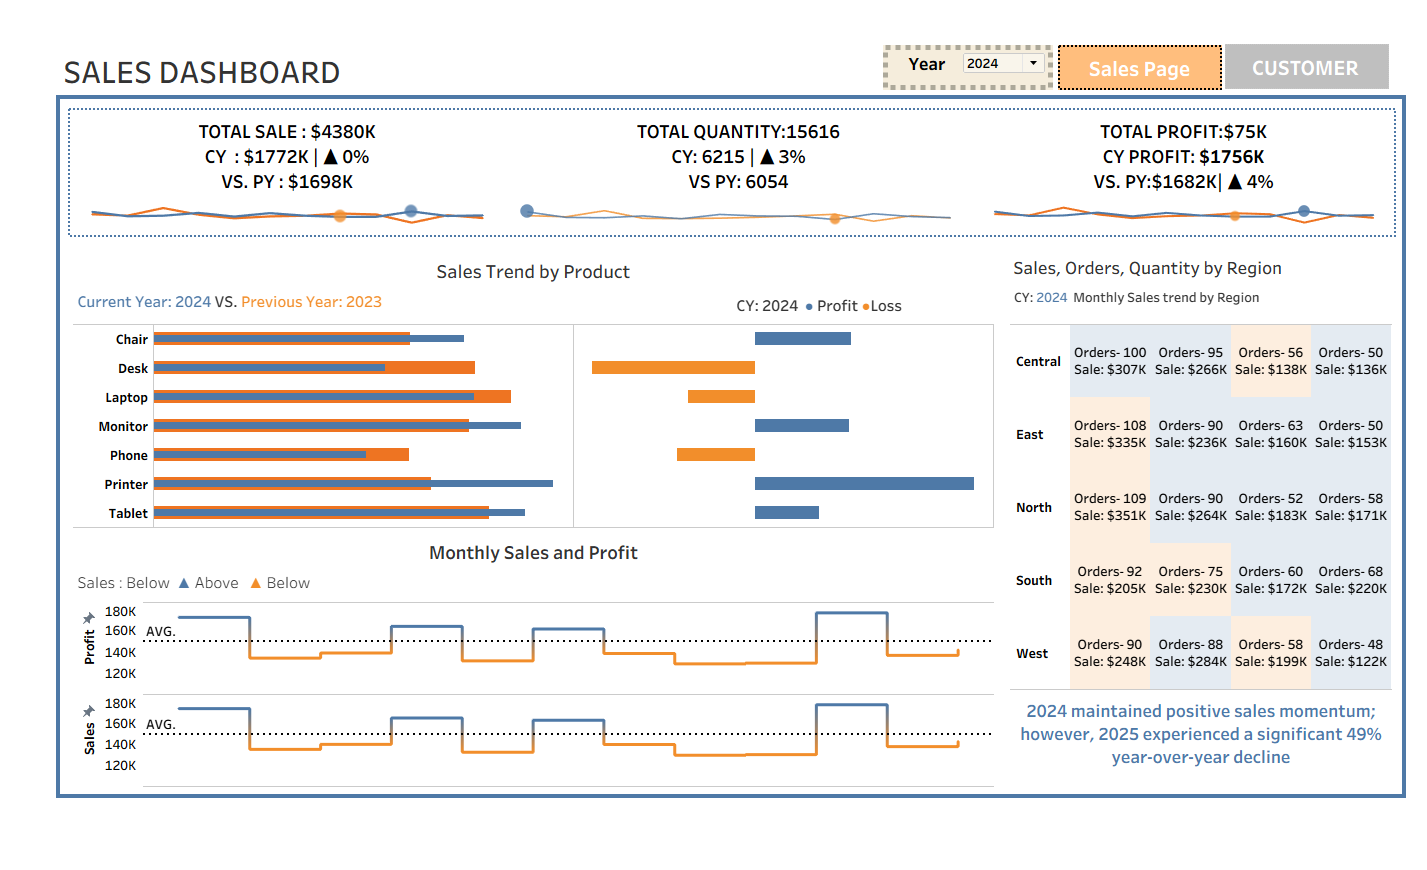

The dashboard page shown, as its layout file describes it:
{"tool":"tableau","page":{"name":"Dashboard 3","canvas":[1366,768],"ordinal":1},"visuals":[{"type":"dashboard-object","box":[1015,5,164,49]},{"type":"dashboard-object","box":[1189,5,164,49]},{"type":"title","box":[8,8,1350,49]},{"type":"worksheet","title":"Sales KPI","mark":"Line","rows":["Calculation_287385966322085920"],"cols":["Date"],"box":[22,72,434,125]},{"type":"worksheet","title":"Quantity KPI","mark":"Line","rows":["Calculation_287385966324645921"],"cols":["Date"],"box":[456,72,469,125]},{"type":"worksheet","title":"Profit","mark":"Automatic","rows":["Calculation_287385966328164386"],"cols":["Date"],"box":[925,72,421,125]},{"type":"text","box":[958,213,390,32]},{"type":"text","box":[21,216,929,33]},{"type":"worksheet","title":"Sales by region","mark":"Automatic","box":[958,245,390,28]},{"type":"worksheet","title":"CY PY","mark":"Text","box":[21,249,929,29]},{"type":"worksheet","title":"Profit loss","mark":"Automatic","box":[678,257,200,22]},{"type":"worksheet","title":"product","mark":"Bar","rows":["Product"],"cols":["Calculation_318911161146077187","Calculation_318911161145823234","Calculation_287385966277017618"],"box":[21,282,929,216]},{"type":"worksheet","title":"sales quarter","mark":"Square","rows":["Region"],"cols":["Date"],"box":[958,282,390,374]},{"type":"text","box":[21,498,929,32]},{"type":"worksheet","title":"sales","mark":"Automatic","box":[21,530,929,29]},{"type":"worksheet","title":"above/below","mark":"Automatic","rows":["Calculation_287385966275391501","Calculation_318911161145823234"],"cols":["Date"],"box":[21,560,929,193]},{"type":"text","box":[958,656,390,80]}]}

Visuals, with their boxes on the page's 1366x768 design canvas (x1, y1, x2, y2). These are canvas units, not pixel positions in the 1427x870 screenshot, which may show the page scaled, cropped or inside an application window:
dashboard-object: 1015:5:1179:54
dashboard-object: 1189:5:1353:54
title: 8:8:1358:57
"Sales KPI" worksheet (Line marks): 22:72:456:197
"Quantity KPI" worksheet (Line marks): 456:72:925:197
"Profit" worksheet: 925:72:1346:197
text: 958:213:1348:245
text: 21:216:950:249
"Sales by region" worksheet: 958:245:1348:273
"CY PY" worksheet (Text marks): 21:249:950:278
"Profit loss" worksheet: 678:257:878:279
"product" worksheet (Bar marks): 21:282:950:498
"sales quarter" worksheet (Square marks): 958:282:1348:656
text: 21:498:950:530
"sales" worksheet: 21:530:950:559
"above/below" worksheet: 21:560:950:753
text: 958:656:1348:736
